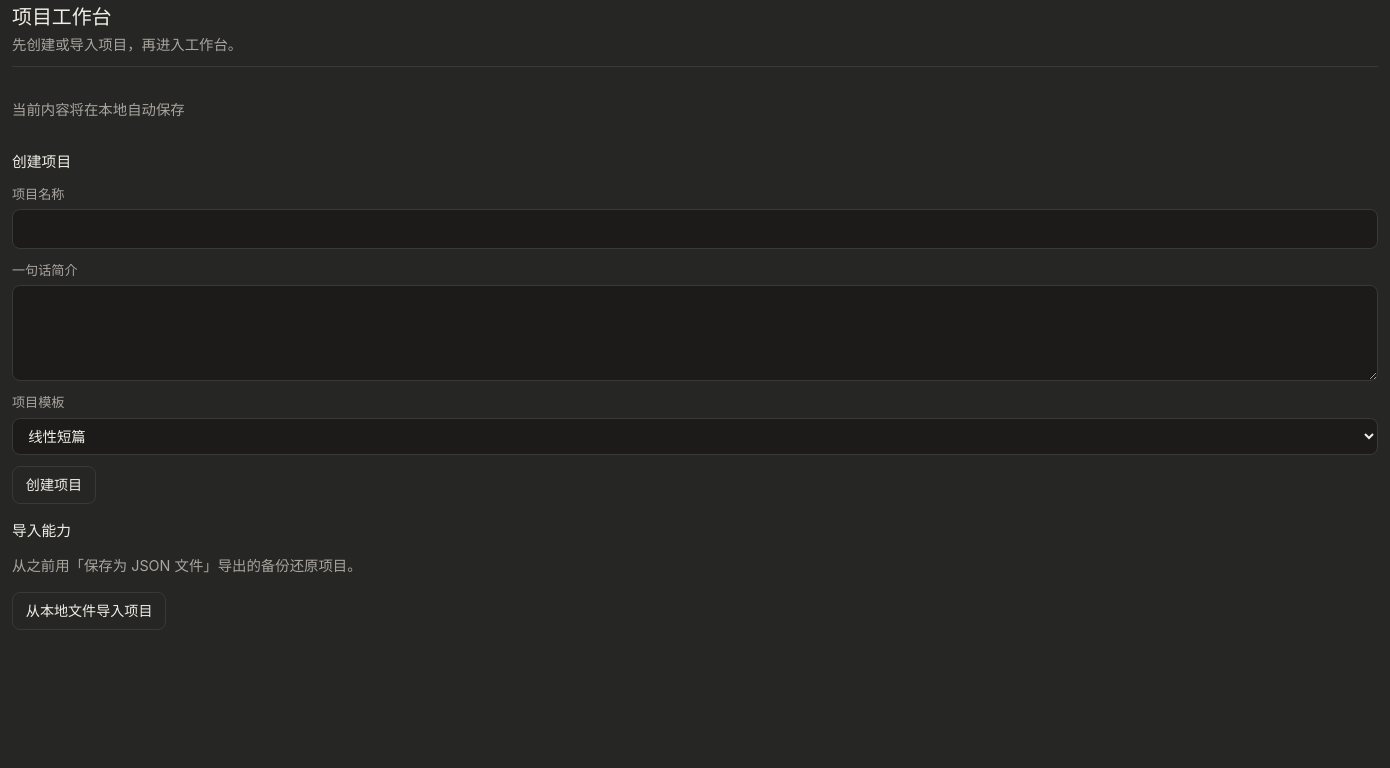
Test case: ProjectHomePage › 允许创建线性短篇并初始化单路线单场景结构
The image size is (1390, 768).
Type "雨夜回响" into the field labelled "项目名称". click: (695, 229)
box: left=12, top=209, right=1378, bottom=249
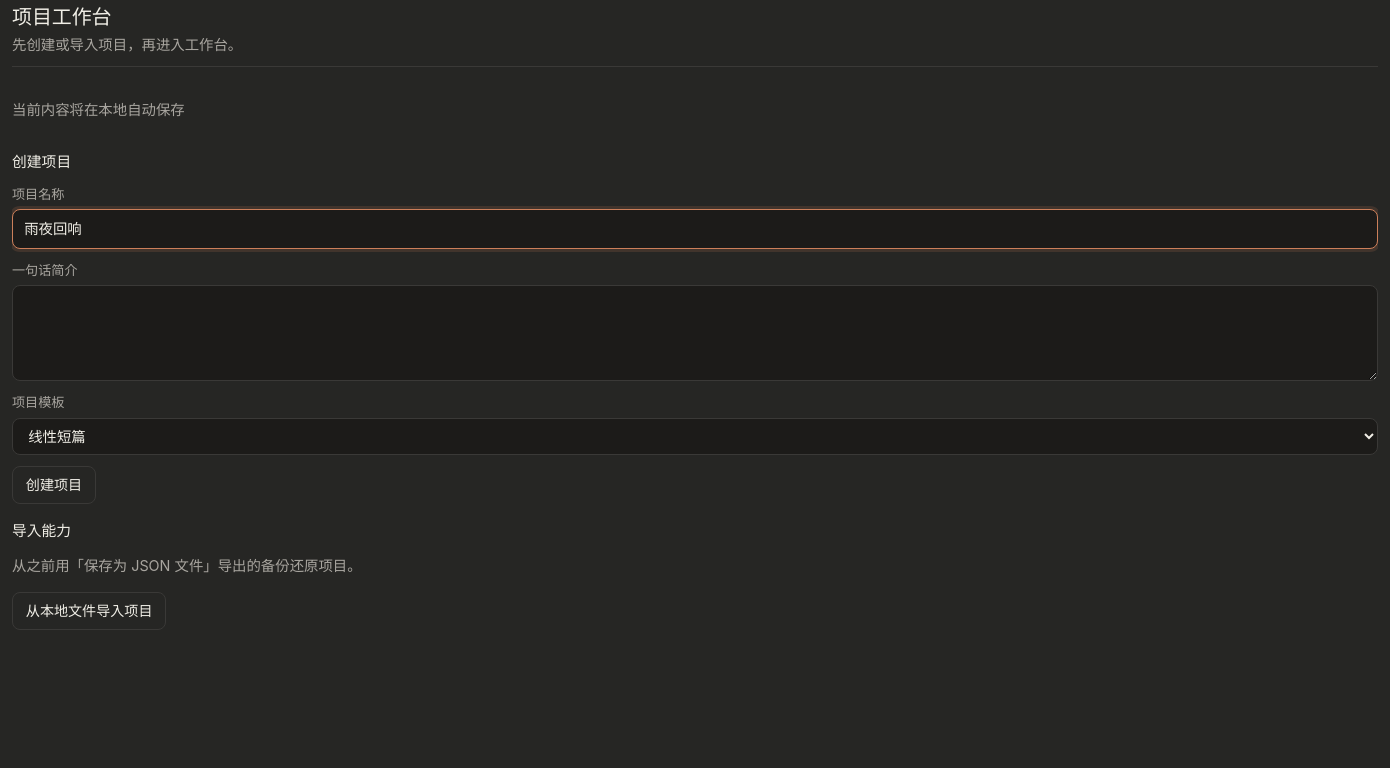
Type "一段校园悬疑故事" into the text box labelled "一句话简介". click: (695, 333)
box: left=12, top=285, right=1378, bottom=381
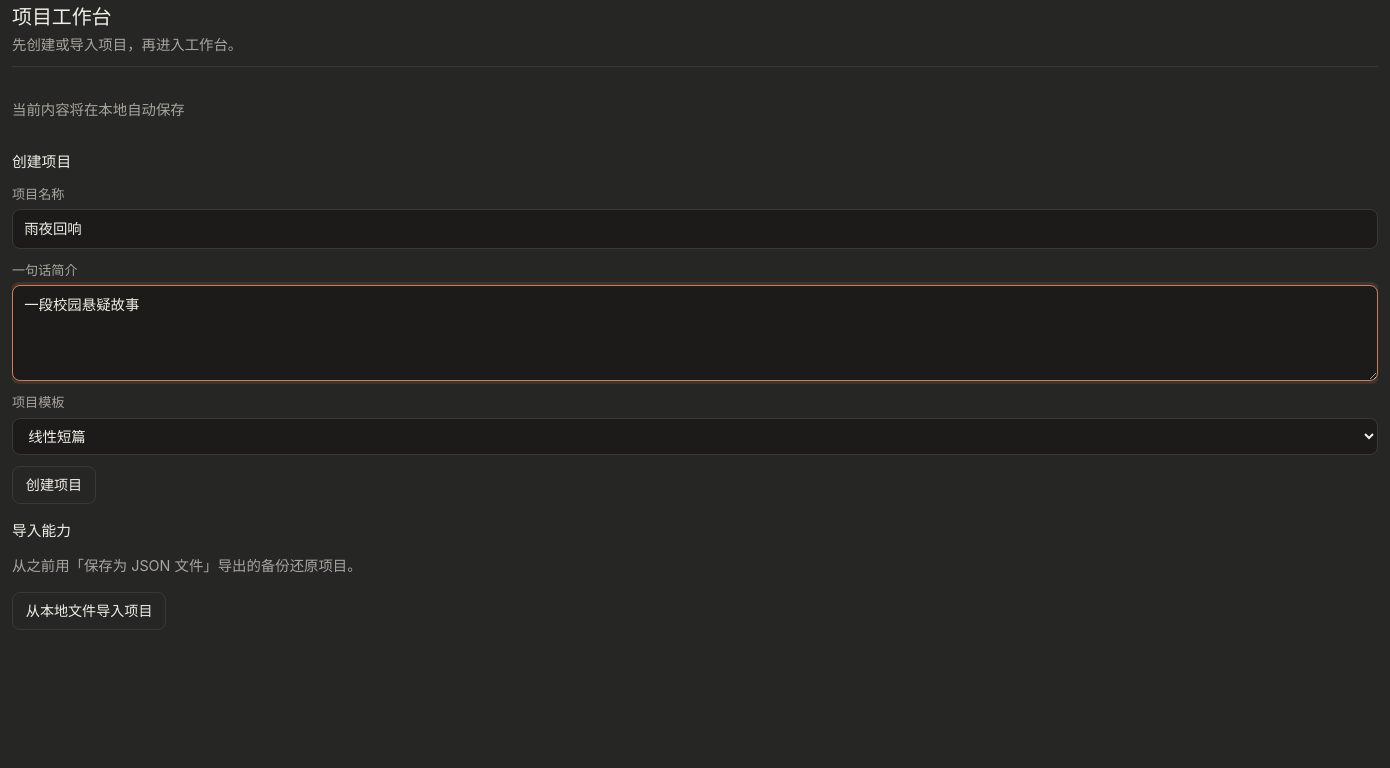
Select "线性短篇" in the dropdown labelled "项目模板". click: (695, 436)
box: left=12, top=418, right=1378, bottom=455
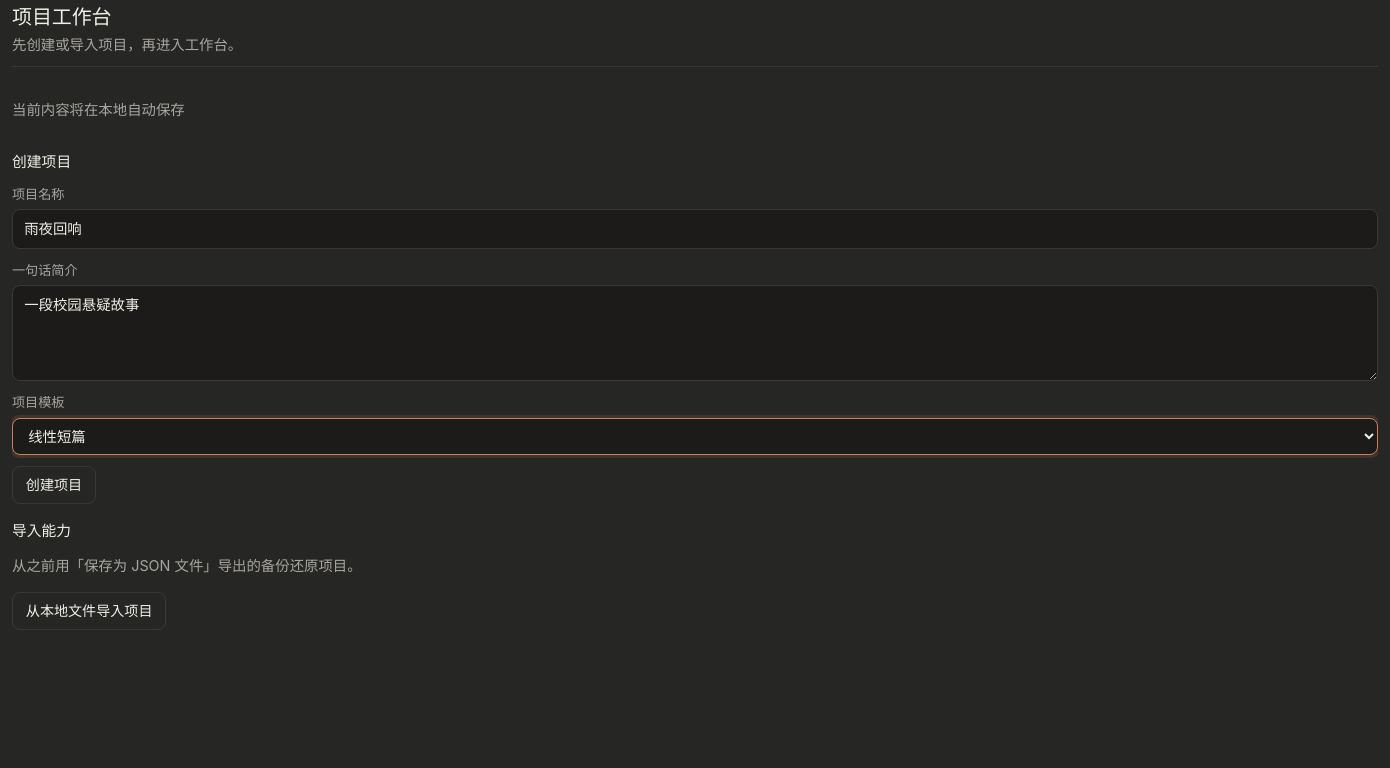
Click the button "创建项目". click: (54, 485)
box: left=12, top=466, right=96, bottom=504
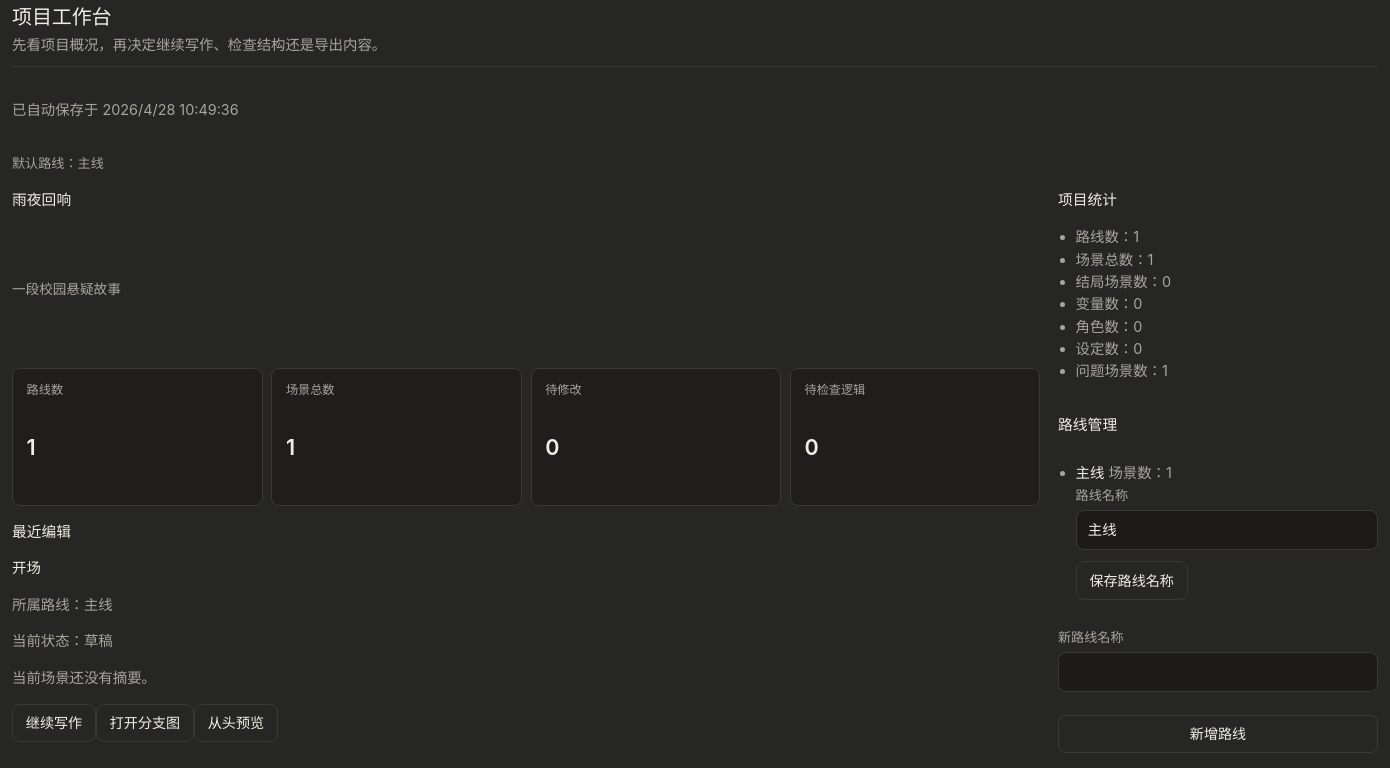
Check: the text "主线" is shown, box left=1076, top=464, right=1104, bottom=482
Check: the text "场景数：1" is shown, box left=1104, top=464, right=1172, bottom=482
Check: the text "开场" is shown, box left=12, top=559, right=41, bottom=576
